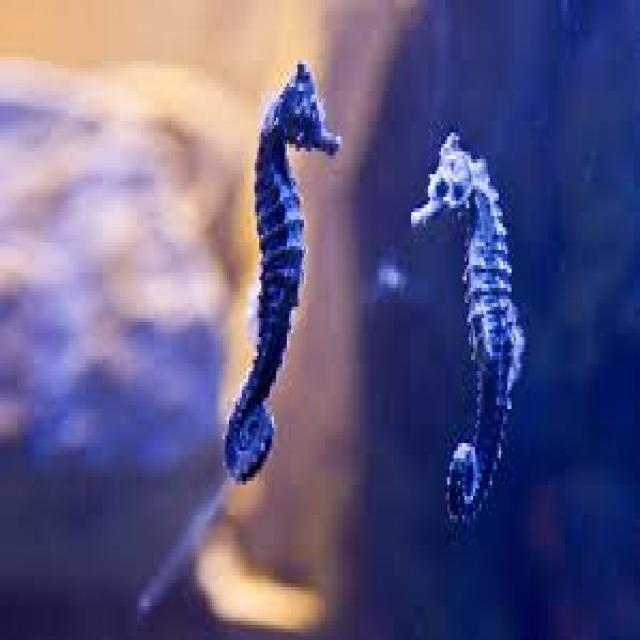SeaHorse: (225, 61, 342, 484), (409, 133, 522, 534)
